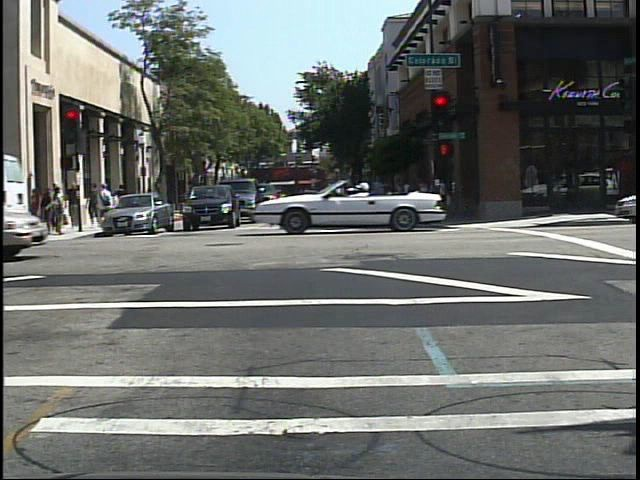person: (97, 179, 115, 226)
